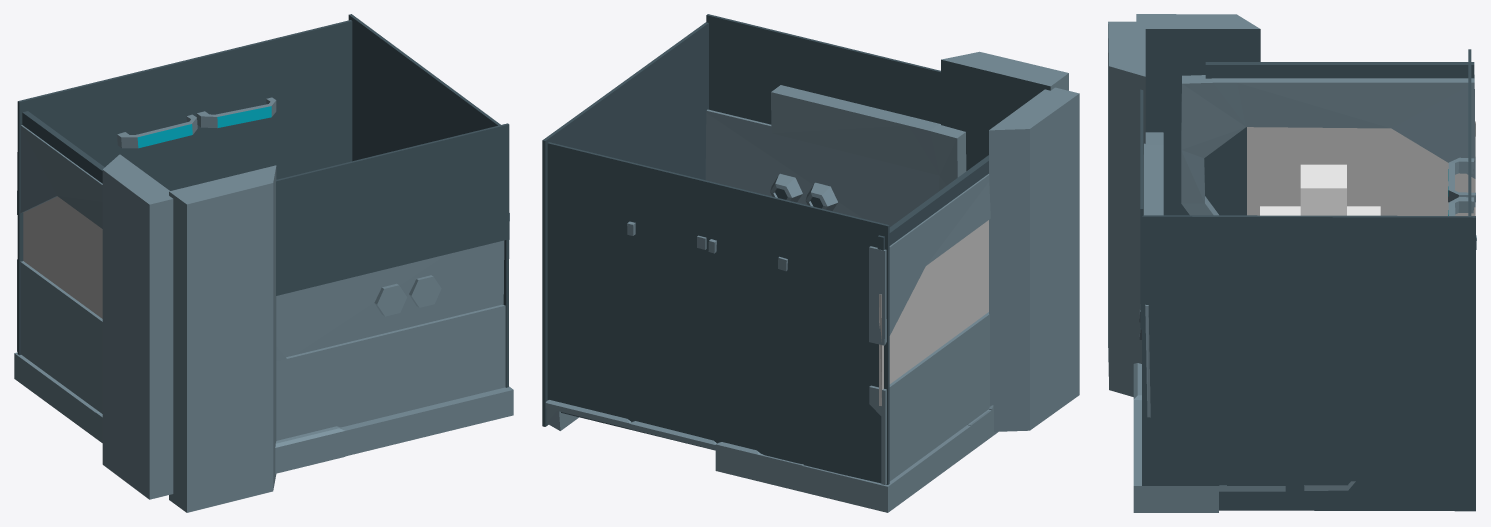
Rendered from factory22.FBX.
3 renders of one model, left to right at view 1: azimuth 30°, elevation 25°; view 2: azimuth 150°, elevation 25°; view 3: azimuth 270°, elevation 25°, orthographic. The views are drawn at different scales.
Visible parts, largest first — view 1: mesh_2088343552, mesh_626090206, mesh_140425820, mesh_2088343551, mesh_1348621255, mesh_1194155437, mesh_388567560, mesh_2088343553, mesh_54319398, mesh_1336034065, mesh_1236447102, mesh_590536359 (+4 smaller); view 2: mesh_2088343552, mesh_2088343551, mesh_388567560, mesh_140425820, mesh_2088343553, mesh_1194155437, mesh_1348621255, mesh_54319398, mesh_626090206, mesh_1236447102, mesh_590536359, mesh_242279844 (+3 smaller); view 3: mesh_2088343553, mesh_388567560, mesh_54319398, mesh_2088343551, mesh_626090206, mesh_590536359, mesh_1336034065, Box007, mesh_1348621255, Box006, mesh_140425820, mesh_450936090 (+2 smaller).
Boxes of the visible parts, x1=… form: mesh_2088343552: x1=17, y1=20, x2=352, y2=355; mesh_626090206: x1=169, y1=165, x2=276, y2=512; mesh_140425820: x1=276, y1=123, x2=509, y2=295; mesh_2088343551: x1=102, y1=154, x2=173, y2=499; mesh_1348621255: x1=276, y1=304, x2=505, y2=440; mesh_1194155437: x1=276, y1=213, x2=509, y2=357; mesh_388567560: x1=17, y1=125, x2=102, y2=413; mesh_2088343553: x1=348, y1=14, x2=508, y2=387; mesh_54319398: x1=23, y1=196, x2=102, y2=318; mesh_1336034065: x1=341, y1=386, x2=513, y2=456; mesh_1236447102: x1=14, y1=352, x2=345, y2=473; mesh_590536359: x1=22, y1=111, x2=104, y2=183; mesh_2088343552: x1=547, y1=142, x2=889, y2=484; mesh_2088343551: x1=989, y1=87, x2=1079, y2=431; mesh_388567560: x1=869, y1=174, x2=990, y2=484; mesh_140425820: x1=706, y1=14, x2=940, y2=124; mesh_2088343553: x1=542, y1=22, x2=708, y2=426; mesh_1194155437: x1=705, y1=109, x2=939, y2=226; mesh_1348621255: x1=771, y1=85, x2=966, y2=190; mesh_54319398: x1=879, y1=220, x2=988, y2=405; mesh_626090206: x1=941, y1=51, x2=1068, y2=170; mesh_1236447102: x1=715, y1=409, x2=998, y2=512; mesh_590536359: x1=877, y1=155, x2=988, y2=250; mesh_242279844: x1=629, y1=421, x2=716, y2=450; mesh_2088343553: x1=1142, y1=215, x2=1475, y2=511; mesh_388567560: x1=1181, y1=75, x2=1475, y2=215; mesh_54319398: x1=1247, y1=121, x2=1475, y2=215; mesh_2088343551: x1=1136, y1=14, x2=1260, y2=215; mesh_626090206: x1=1108, y1=21, x2=1145, y2=396; mesh_590536359: x1=1205, y1=62, x2=1474, y2=78; mesh_1336034065: x1=1133, y1=400, x2=1218, y2=512; Box007: x1=1300, y1=164, x2=1346, y2=215; mesh_1348621255: x1=1143, y1=132, x2=1163, y2=215; Box006: x1=1260, y1=206, x2=1380, y2=215; mesh_140425820: x1=1140, y1=89, x2=1143, y2=329; mesh_450936090: x1=1448, y1=157, x2=1475, y2=207.
Size of the model in its own units: 175 by 142 by 146.
